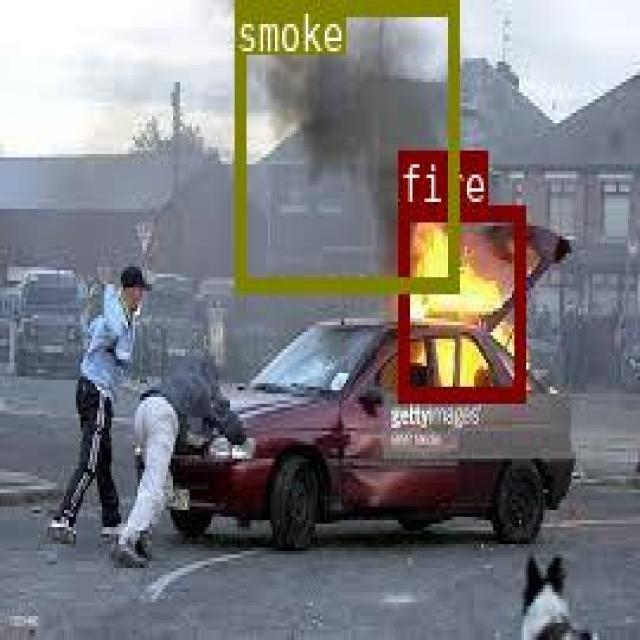fire: (396, 205, 523, 400)
smoke: (234, 0, 455, 287)
